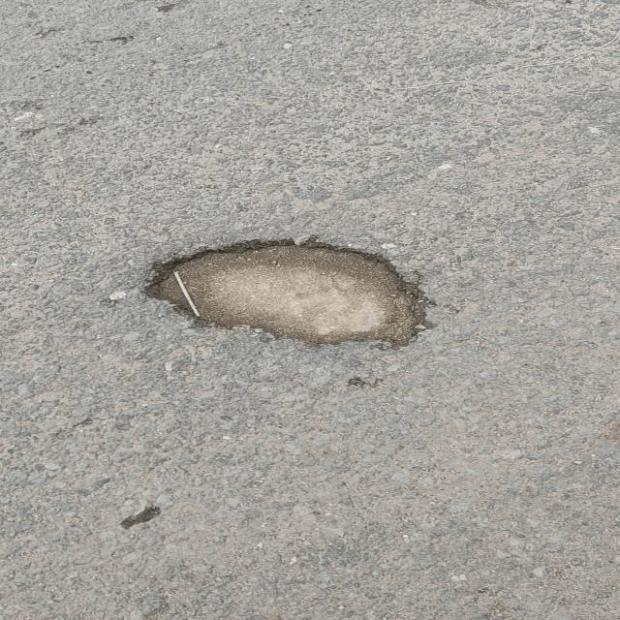lubang: (146, 240, 424, 345)
